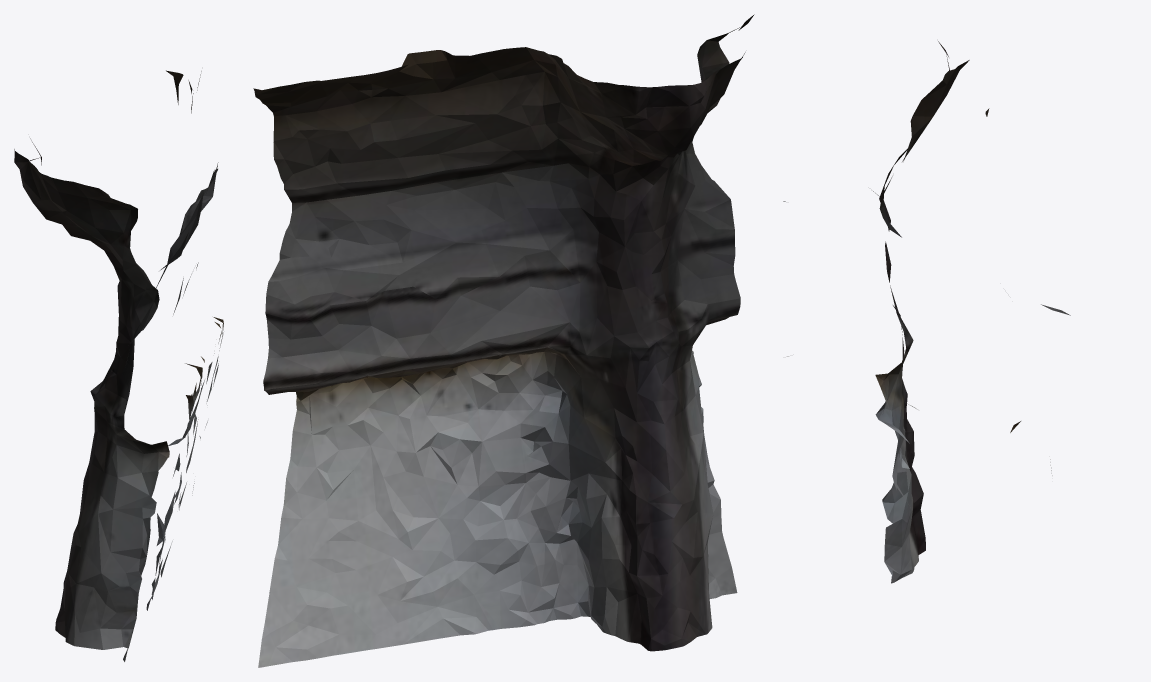
The picture shows the model from 3 angles, left to right: view 1: azimuth 30°, elevation 25°; view 2: azimuth 150°, elevation 25°; view 3: azimuth 270°, elevation 25°; orthographic projection. The views are drawn at different scales.
Size of the model in its own units: 0.5036 by 0.8373 by 0.5249.
2 materials, 2 textured.
